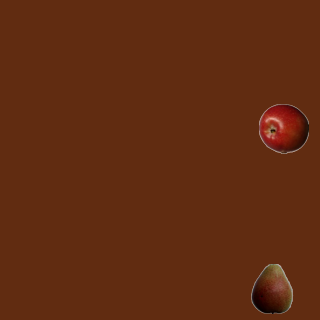Apple Braeburn: (258, 103, 308, 153)
Pear Forelle: (246, 263, 296, 313)
